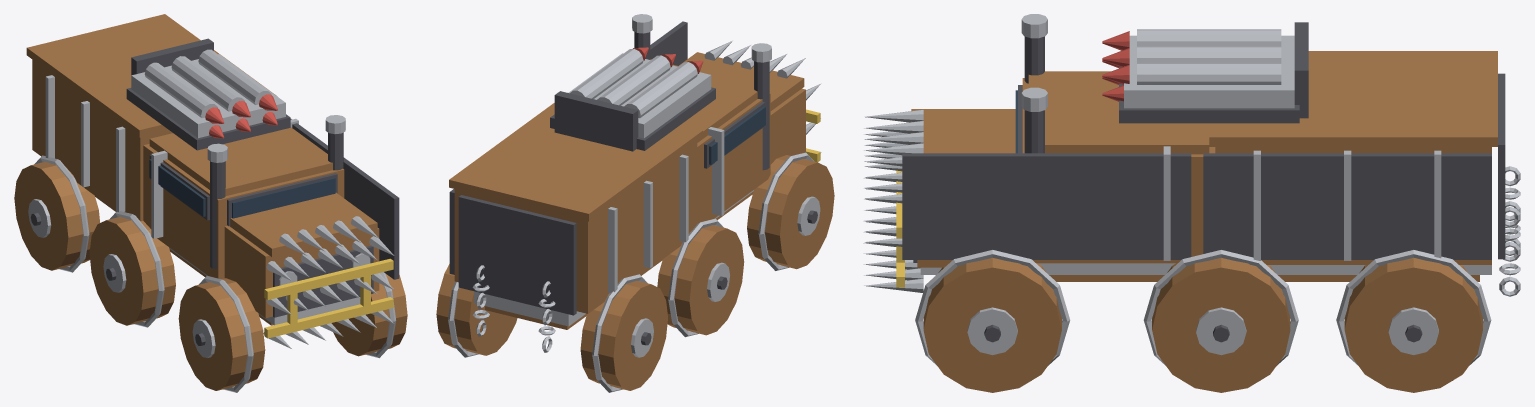
Rendered from Boss.fbx.
3 views of the same model, side by side, from view 1: azimuth 30°, elevation 25°; view 2: azimuth 150°, elevation 25°; view 3: azimuth 270°, elevation 25° (orthographic). The views are drawn at different scales.
Visible parts, largest first — view 1: Boss; view 2: Boss; view 3: Boss.
Boxes of the visible parts, left/top/right/bottom form: Boss: left=14, top=14, right=407, bottom=392; Boss: left=436, top=14, right=834, bottom=392; Boss: left=863, top=14, right=1520, bottom=392.
Size of the model in its own units: 4.66 by 5.49 by 10.93.
